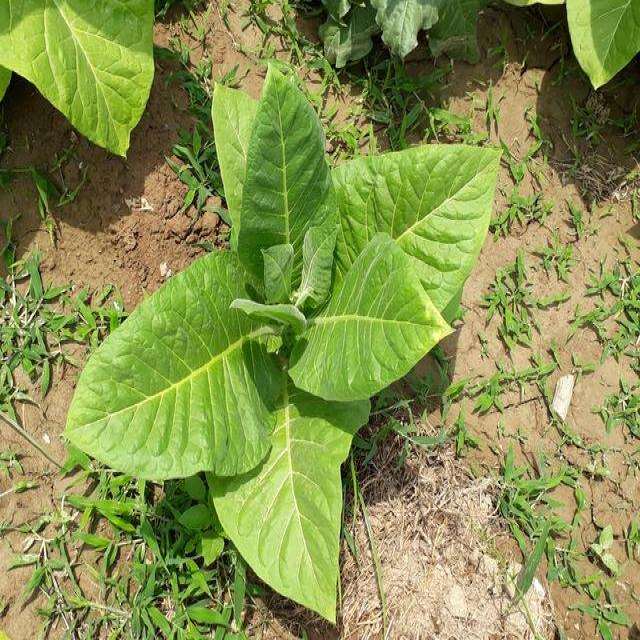crop: (110, 123, 482, 623), (0, 0, 159, 158), (558, 0, 640, 95)
